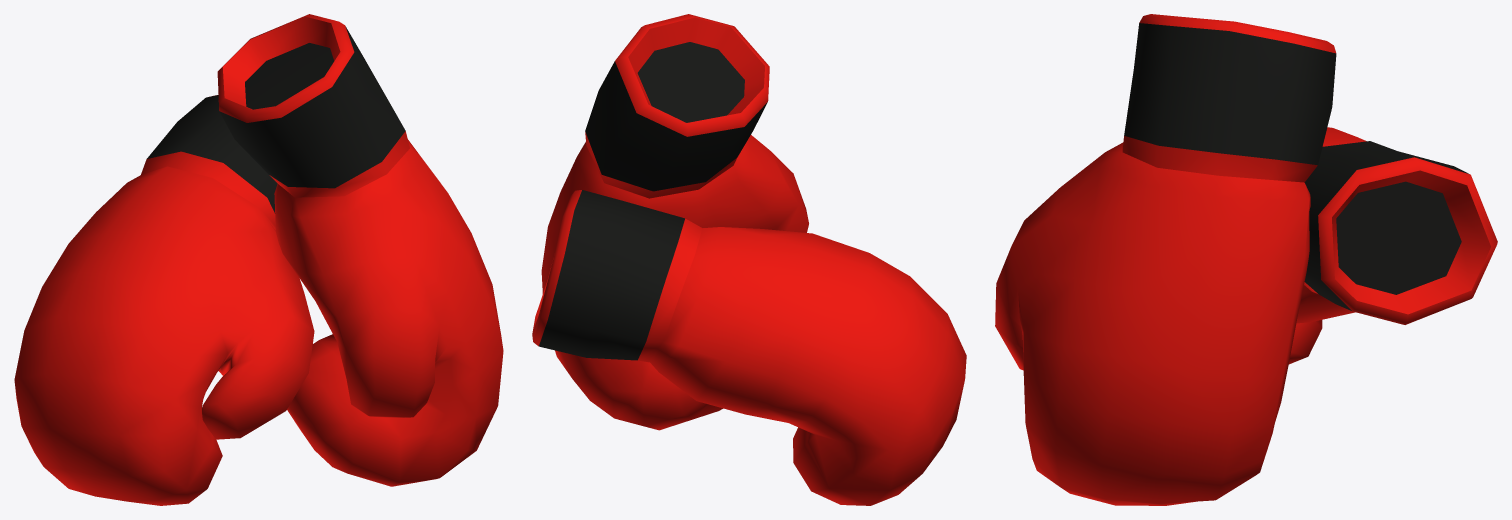
File: boxgloves.fbx
3 renders of one model, left to right at view 1: azimuth 30°, elevation 25°; view 2: azimuth 150°, elevation 25°; view 3: azimuth 270°, elevation 25°, orthographic. The views are drawn at different scales.
Visible parts, largest first — view 1: boxglove1.001; view 2: boxglove1.001; view 3: boxglove1.001.
Boxes of the visible parts, x1=… form: boxglove1.001: x1=14, y1=14, x2=503, y2=505; boxglove1.001: x1=532, y1=14, x2=966, y2=505; boxglove1.001: x1=995, y1=14, x2=1497, y2=505.
Size of the model in its own units: 0.5389 by 0.5163 by 0.5028.
